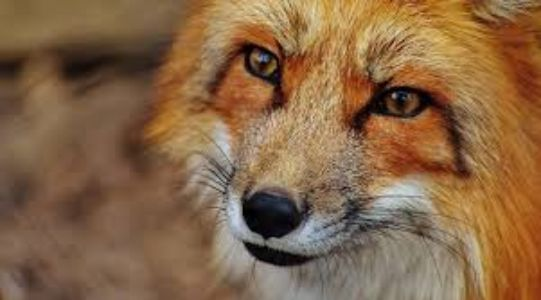fox: (155, 4, 541, 294)
